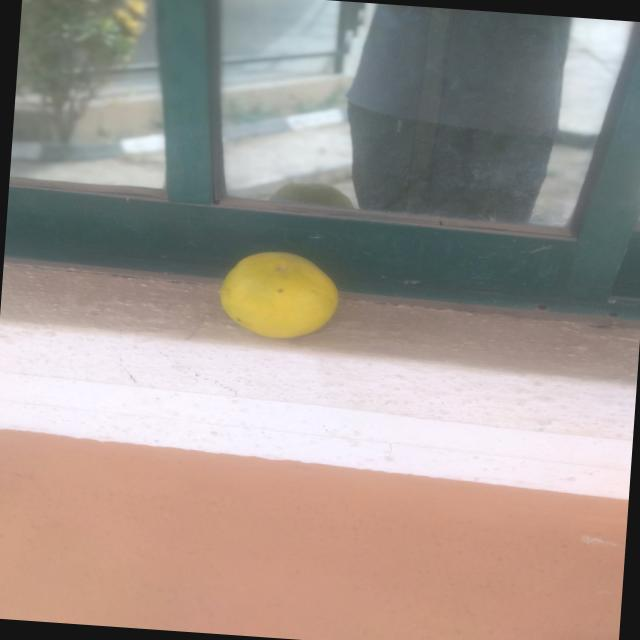Ripe orange: (207, 242, 360, 350)
